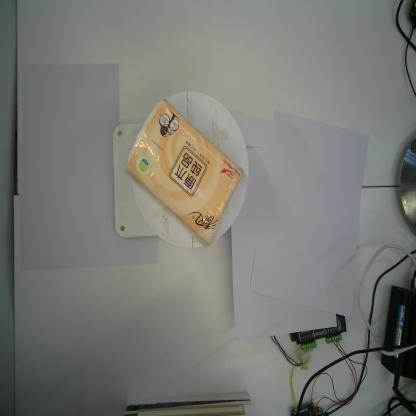Tissue: (123, 97, 245, 249)
